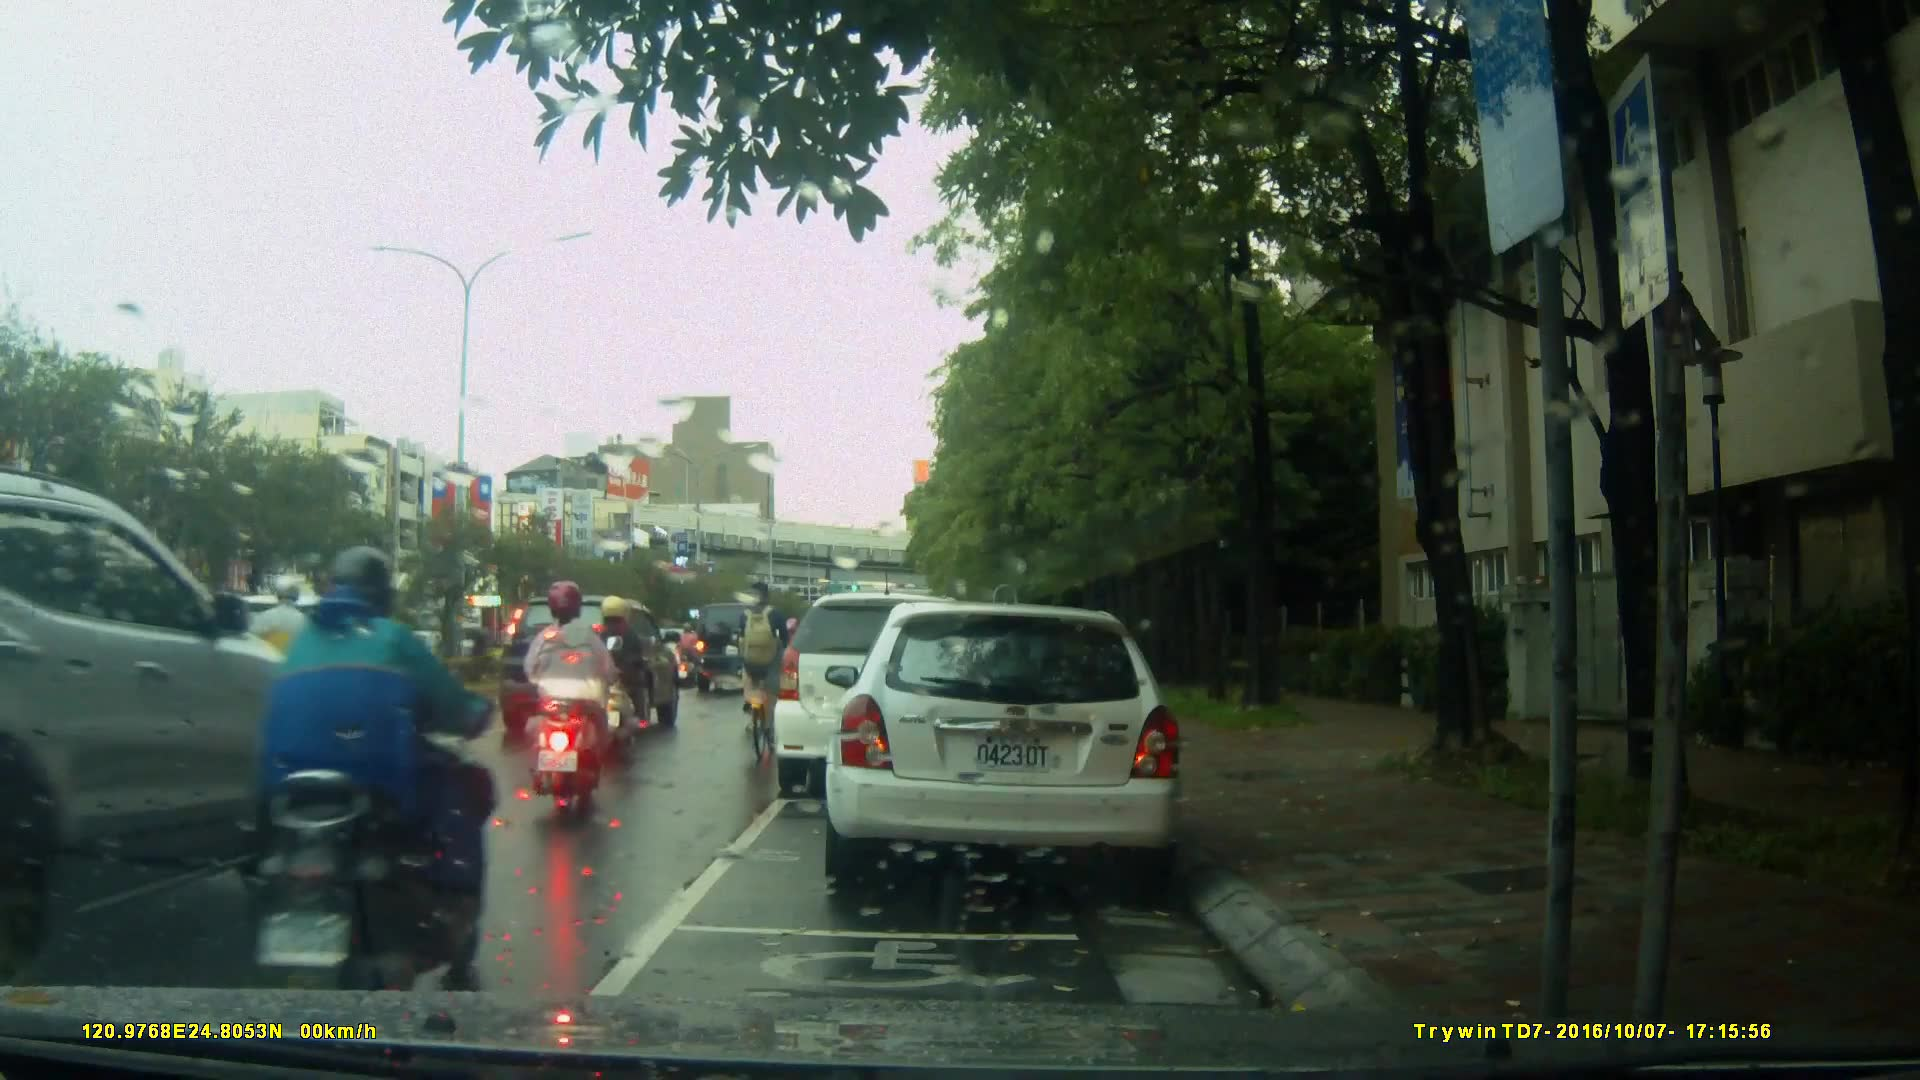rider: (247, 544, 494, 1036), (527, 582, 627, 814), (732, 582, 791, 763), (589, 593, 653, 759), (674, 620, 704, 685)
vehicle: (1, 470, 380, 988), (822, 604, 1188, 883), (774, 595, 995, 802), (494, 593, 684, 744)
